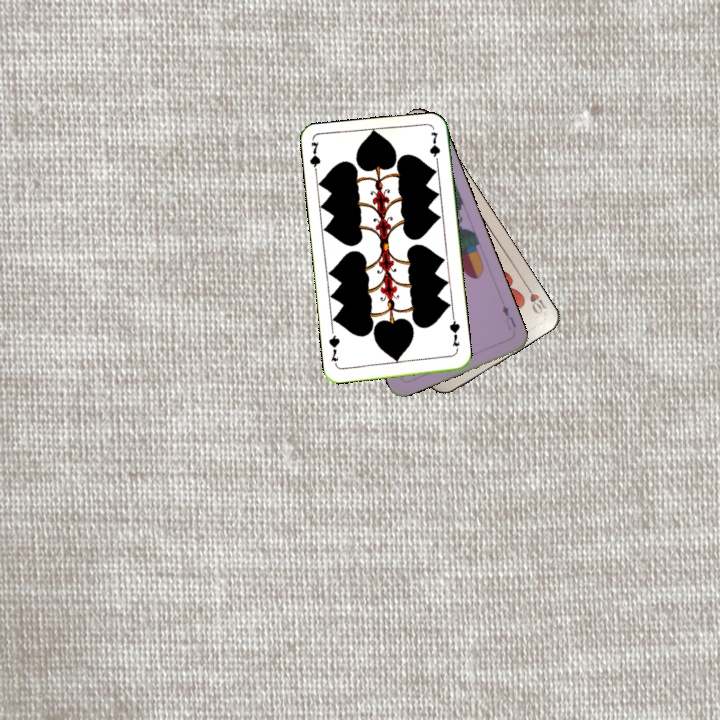EU: (498, 301, 519, 332)
G7: (445, 314, 462, 355), (306, 138, 323, 179)
H10: (520, 279, 550, 317)
